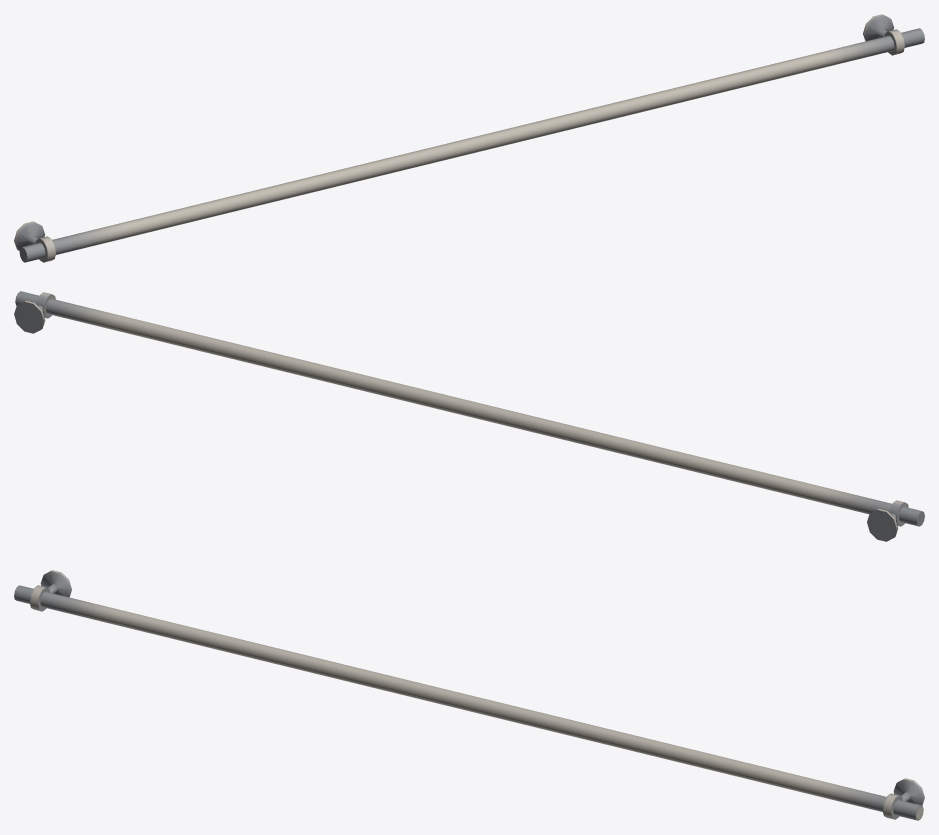
The model's file is SM_Utensil_Pole_01.glb.
3 renders of one model, top to bottom at view 1: azimuth 30°, elevation 25°; view 2: azimuth 150°, elevation 25°; view 3: azimuth 330°, elevation 25°, orthographic.
Parts seen in each view (by area): view 1: SM_Utensil_Pole_01; view 2: SM_Utensil_Pole_01; view 3: SM_Utensil_Pole_01.
Boxes of the visible parts, x1,y1,x2,y2 form: SM_Utensil_Pole_01: (14,14,924,262); SM_Utensil_Pole_01: (14,291,924,541); SM_Utensil_Pole_01: (14,570,924,820).
Size of the model in its own units: 1.29 by 0.0408 by 0.0575.
Materials: 1 (1 with a texture image).
